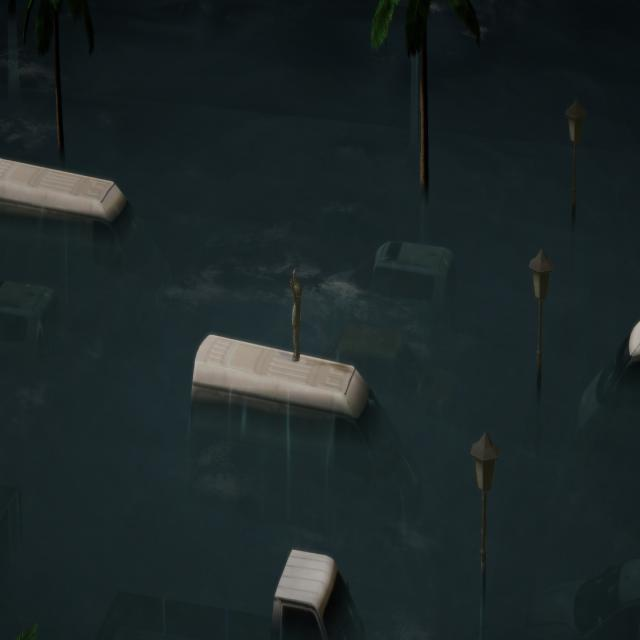Human: (285, 267, 310, 374)
